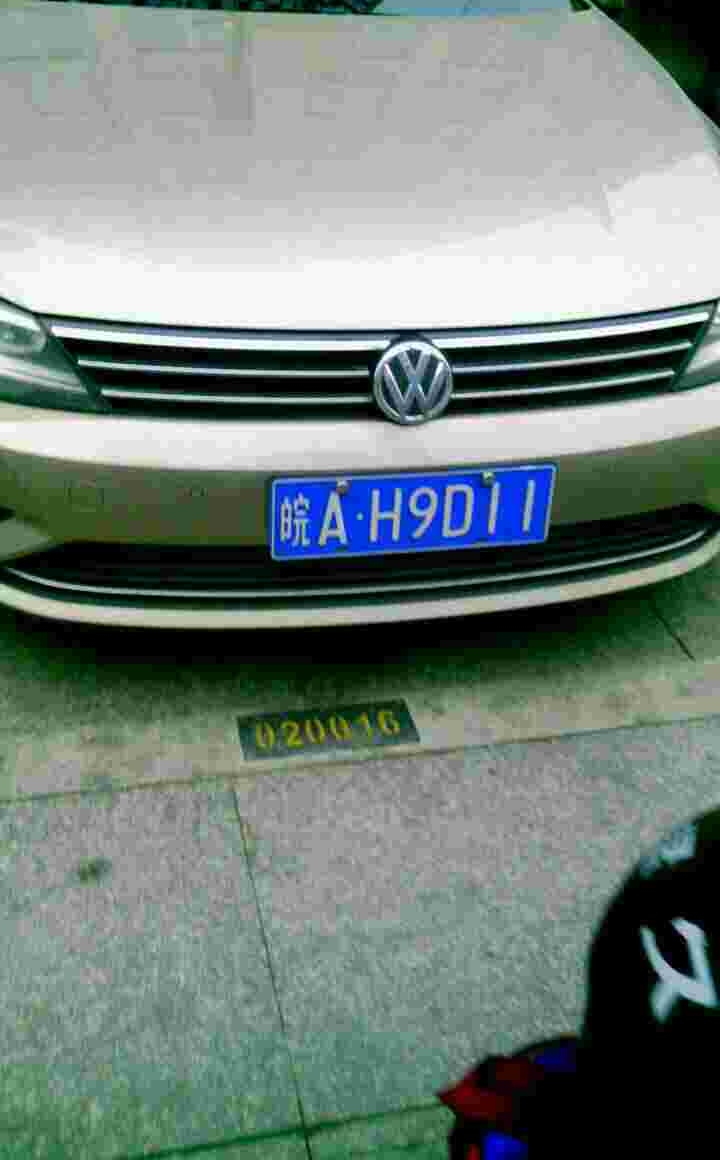license_plate: (275, 460, 555, 567)
